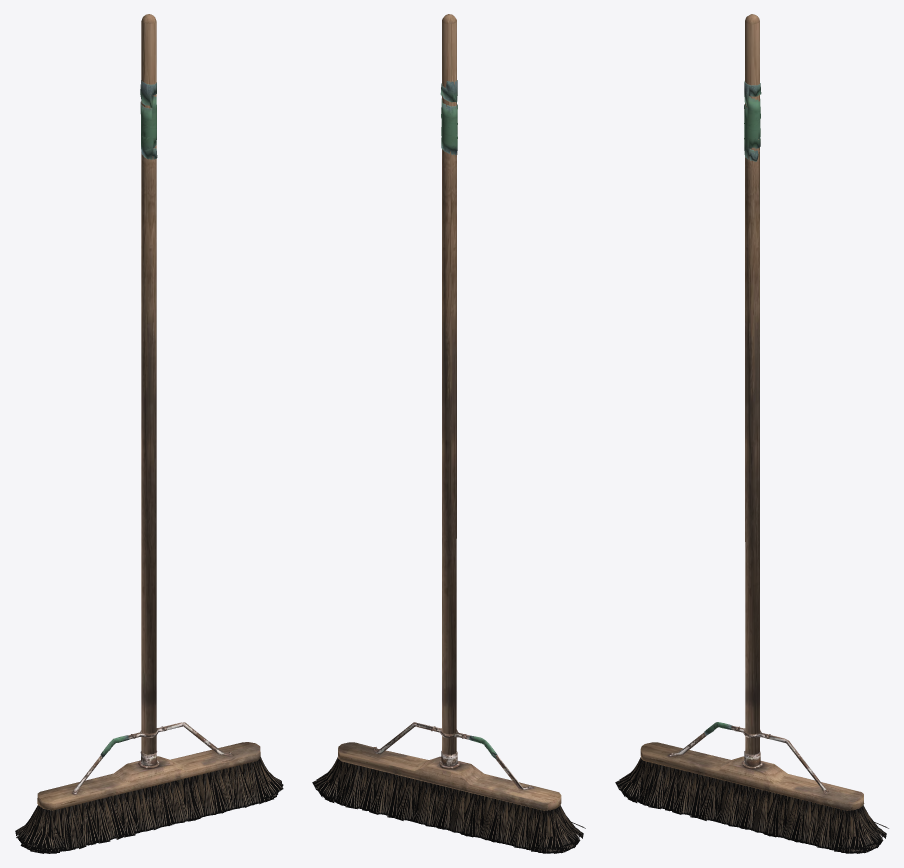
File: wooden_broom.glb
3 renders of one model, left to right at view 1: azimuth 30°, elevation 25°; view 2: azimuth 150°, elevation 25°; view 3: azimuth 330°, elevation 25°, orthographic.
Visible parts, largest first — view 1: wooden_broom_lod0; view 2: wooden_broom_lod0; view 3: wooden_broom_lod0.
Boxes of the visible parts, bbox=[...] form: wooden_broom_lod0: bbox=[15, 14, 283, 853]; wooden_broom_lod0: bbox=[312, 14, 585, 853]; wooden_broom_lod0: bbox=[615, 14, 888, 853].
Size of what is drawn, in the model's own units: 0.4902 by 1.45 by 0.1125.
Materials: 2 (2 with a texture image).
